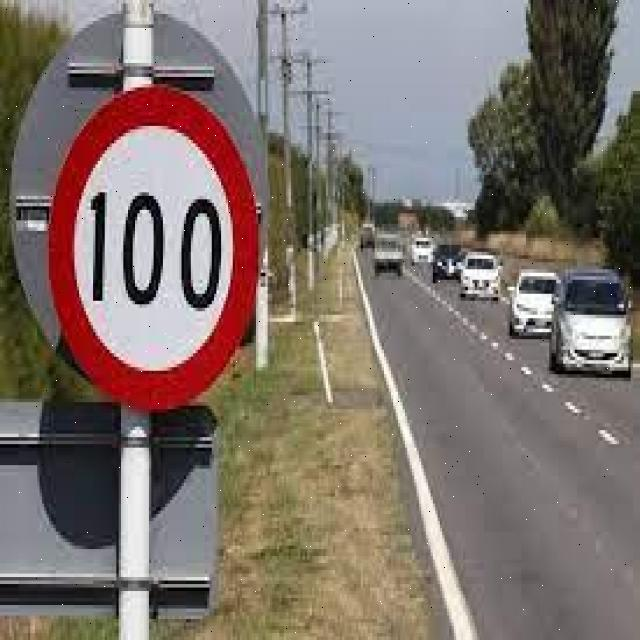speed limit 100: (49, 85, 260, 412)
